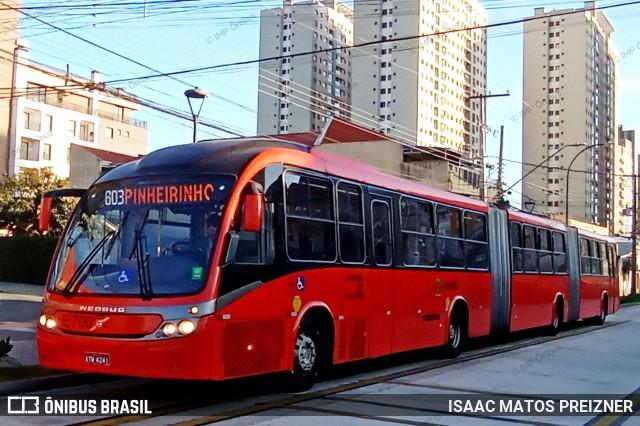PINHEIRINHO: (121, 179, 218, 207)
